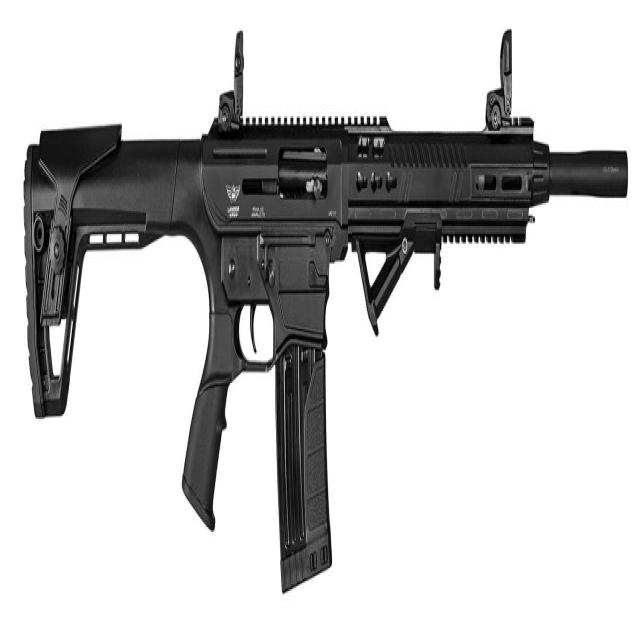Rifle: (22, 31, 628, 594)
